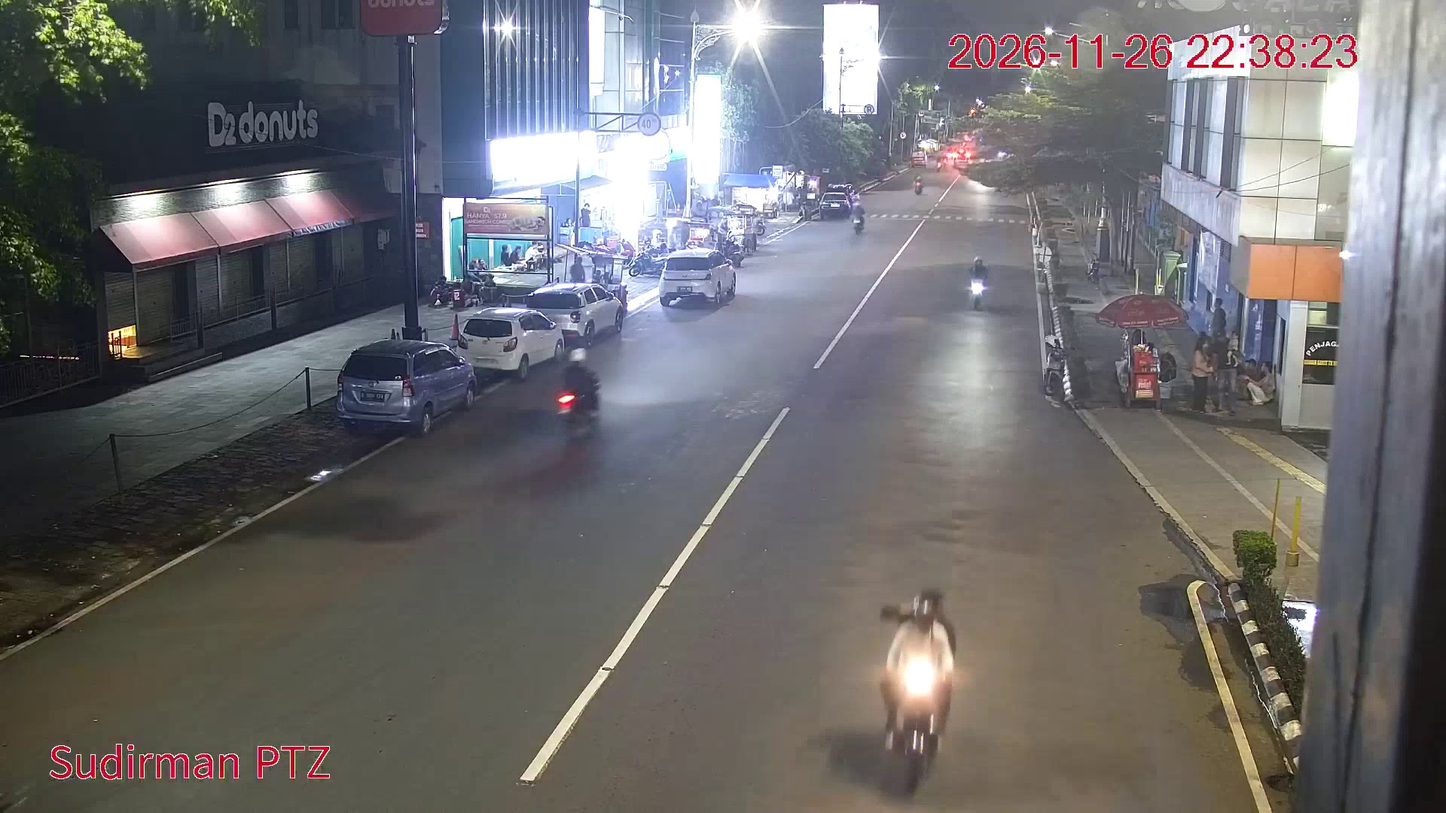Gerobak: (1113, 342, 1163, 409)
